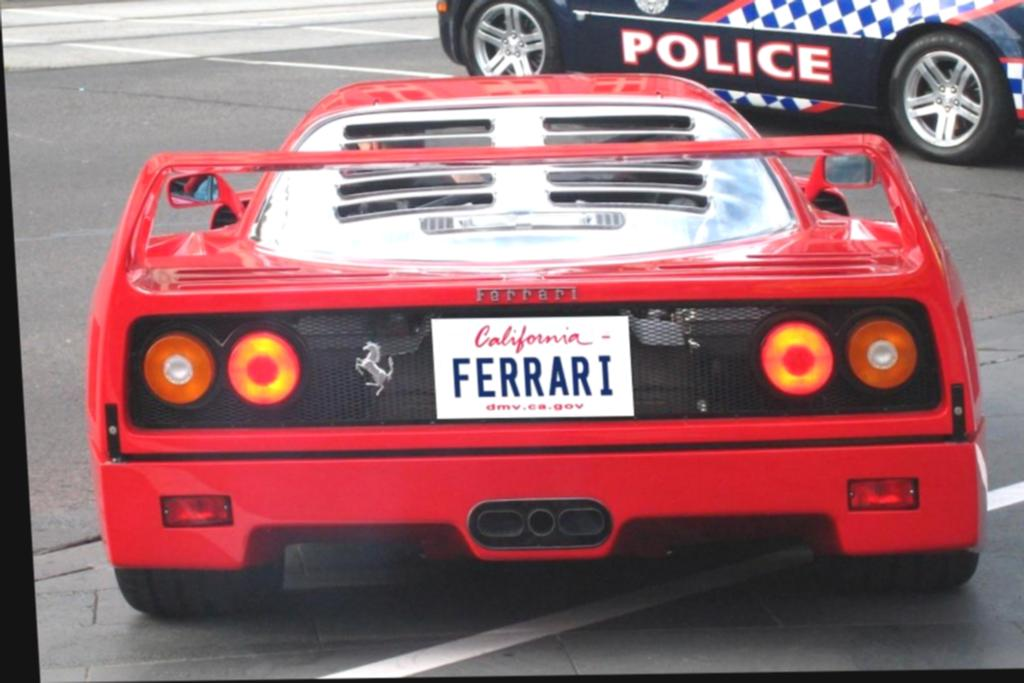License_Plate: (430, 318, 634, 418)
